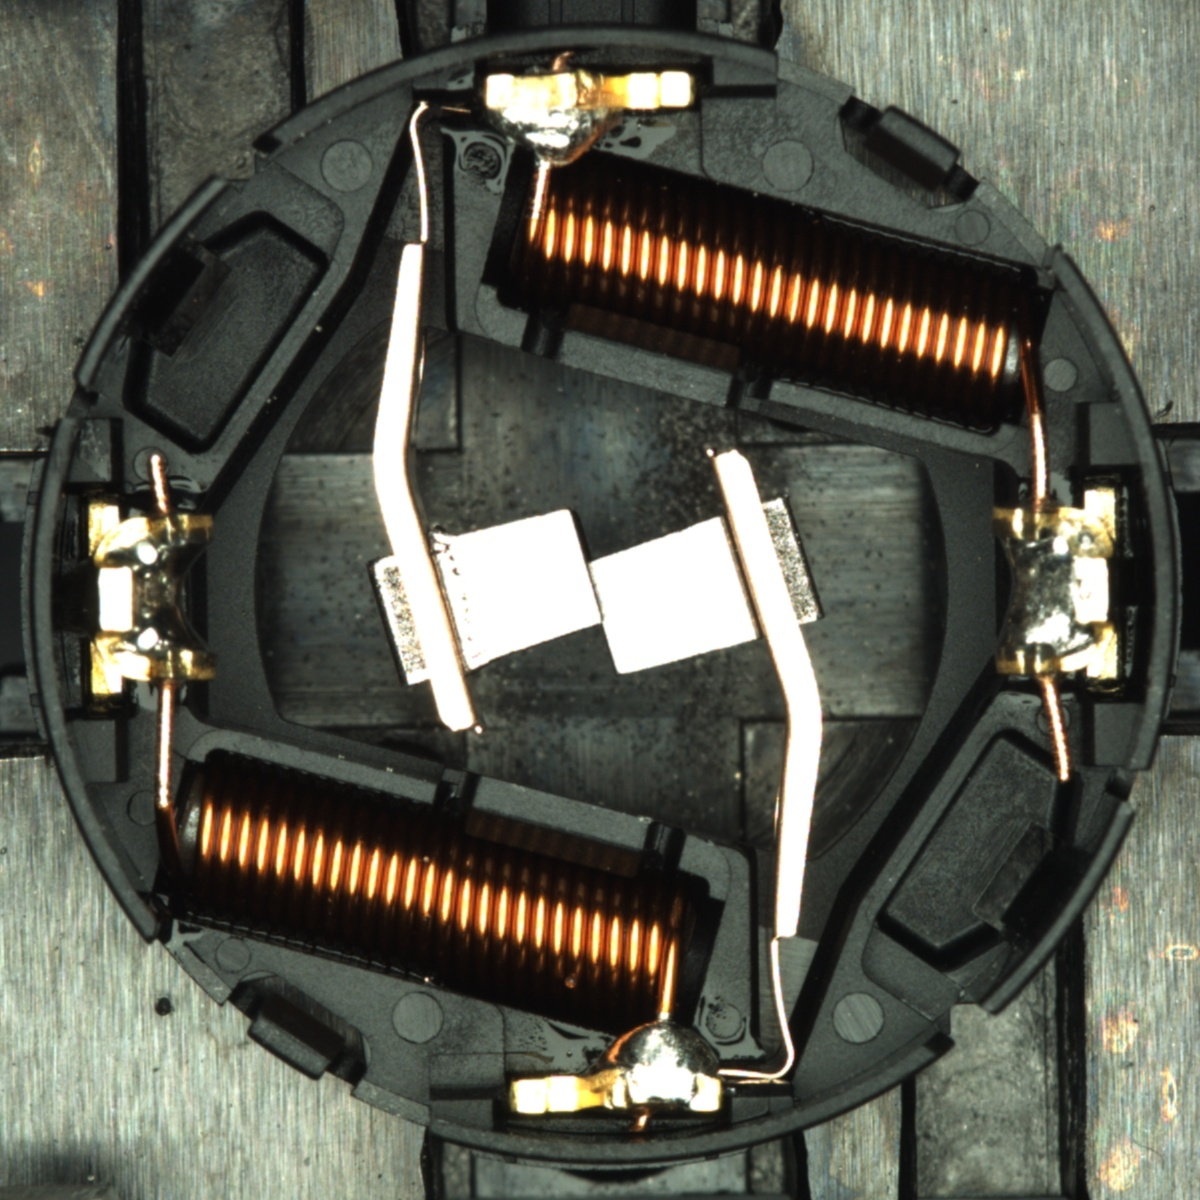1: (258, 55, 487, 279), (716, 953, 945, 1177)
2: (716, 55, 945, 279), (258, 953, 487, 1177)
3: (29, 279, 258, 503), (945, 729, 1175, 953)
4: (258, 279, 487, 503), (716, 729, 945, 953)
5: (487, 167, 716, 391), (487, 841, 716, 1065)
6: (716, 279, 945, 503), (258, 729, 487, 953)
7: (945, 279, 1175, 503), (29, 729, 258, 953)
chau_dien: (81, 496, 221, 698), (984, 488, 1124, 685)
tay_choi: (484, 70, 698, 171), (509, 1018, 724, 1116)
thanh_de: (955, 787, 1143, 1031), (60, 166, 245, 404)
vun_chi: (424, 521, 457, 557)
